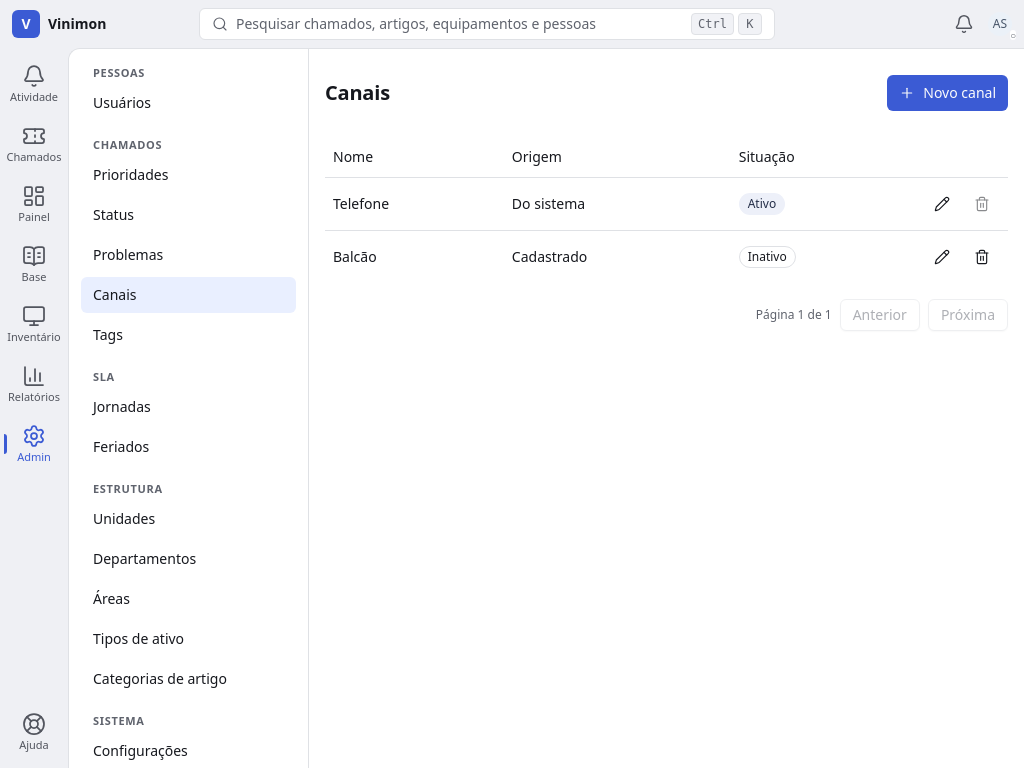
Test case: /admin/canais › (c) 400 com detalhes aparece no campo
The width and height of the screenshot is (1024, 768).
Click the button "Novo canal": (948, 93) left=887, top=75, right=1008, bottom=111
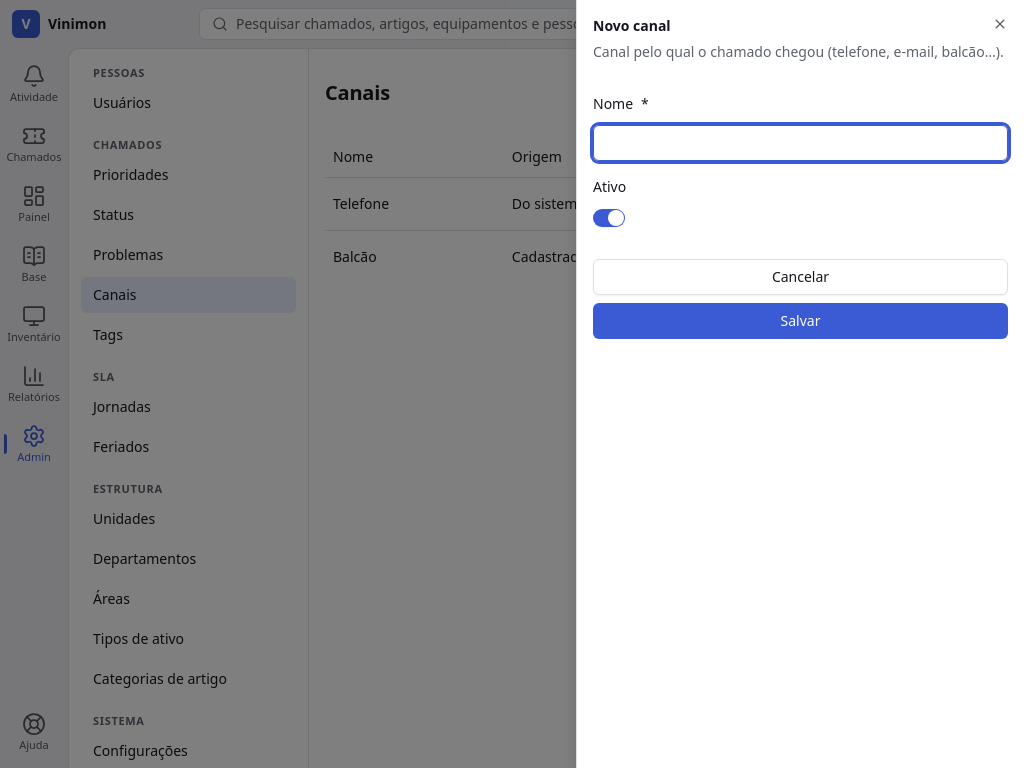
In the field labelled "Nome *": (800, 143) left=593, top=125, right=1008, bottom=161, type "Telefone"
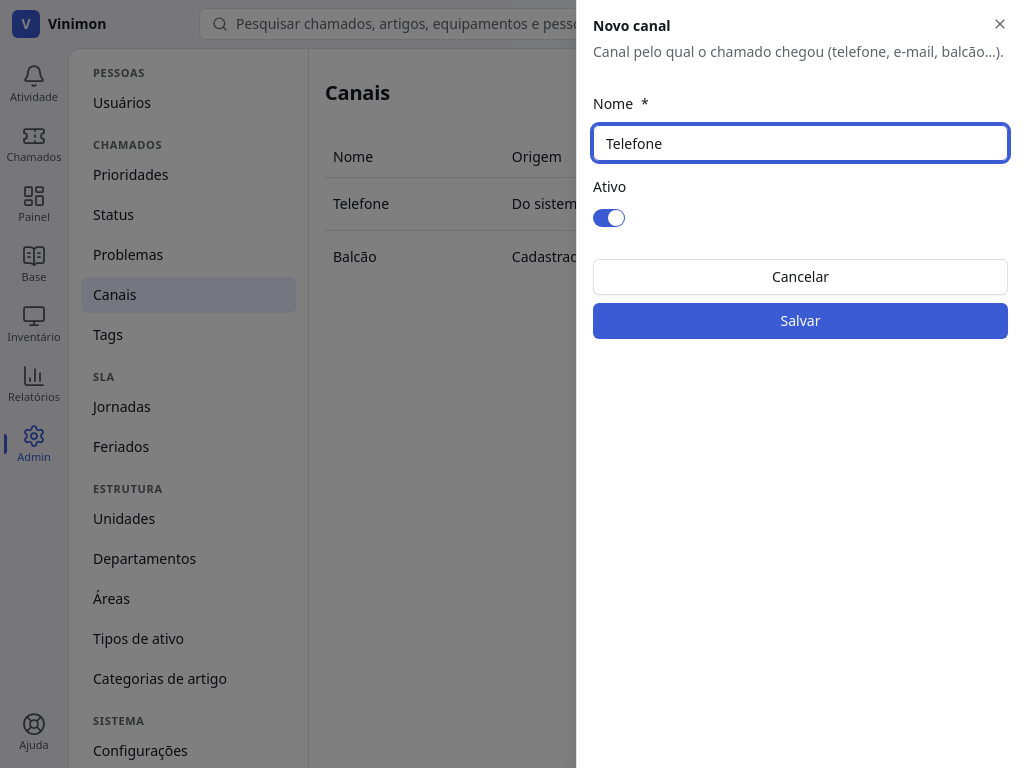
Click the button "Salvar": (800, 321) left=593, top=303, right=1008, bottom=339
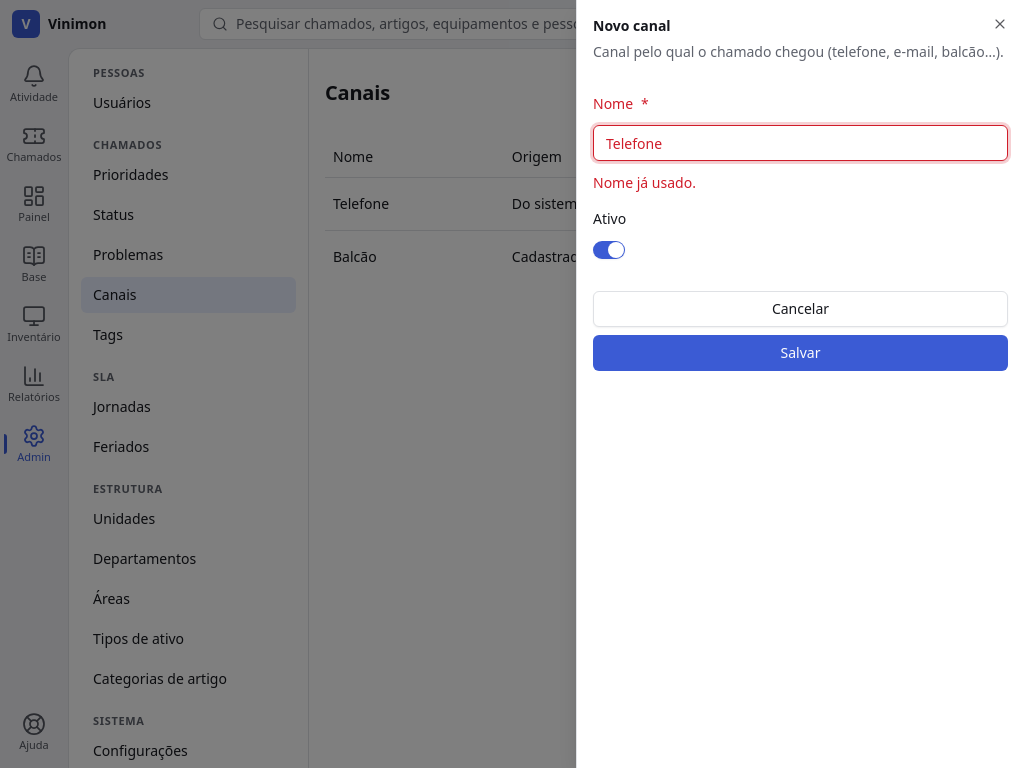
Expected: the text "Nome já usado." is shown, left=593, top=173, right=696, bottom=192
